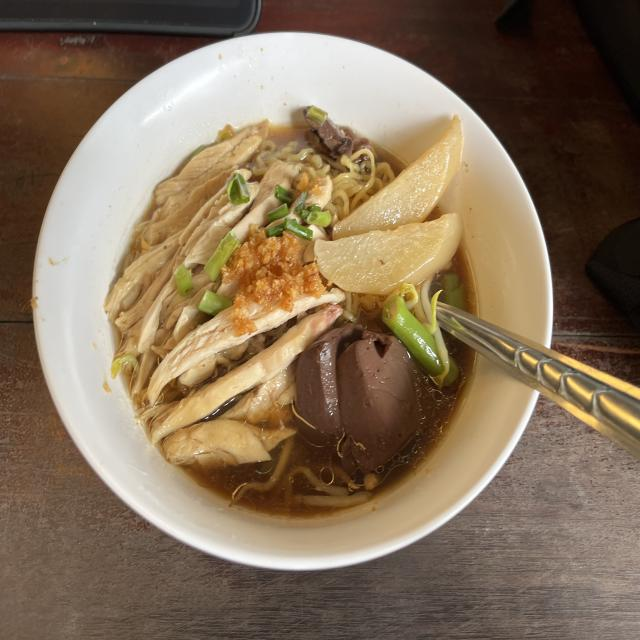noodle: (111, 71, 502, 526)
